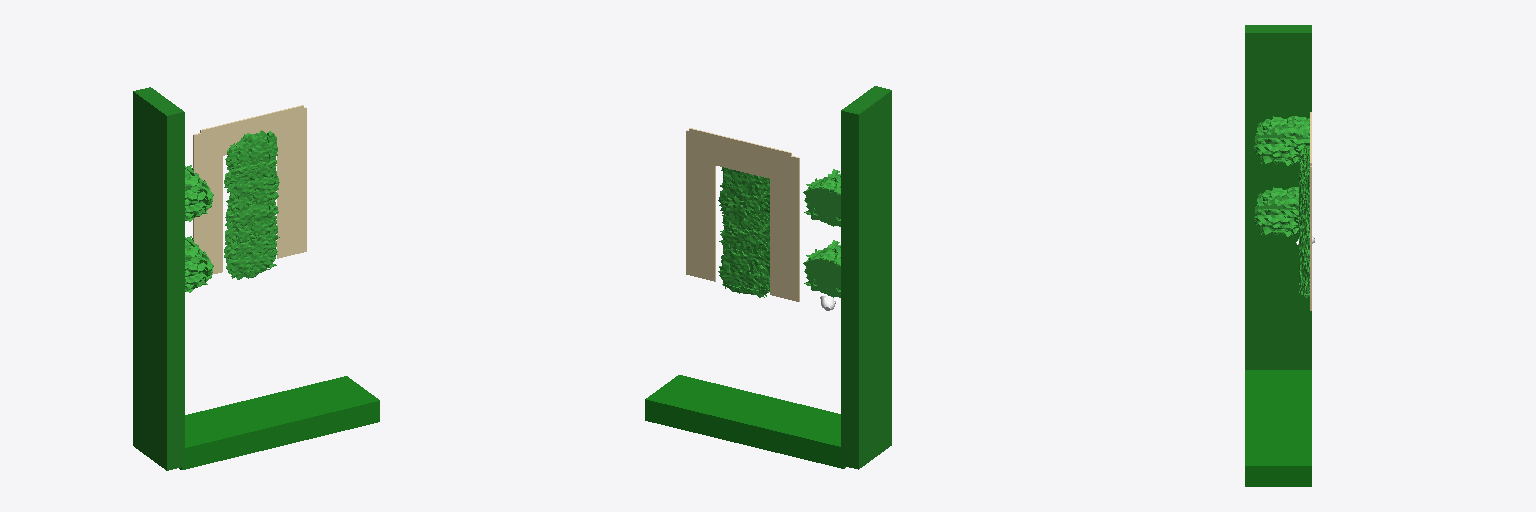
File: tinker.obj
3 renders of one model, left to right at view 1: azimuth 30°, elevation 25°; view 2: azimuth 150°, elevation 25°; view 3: azimuth 270°, elevation 25°, orthographic.
Parts seen in each view (by area): view 1: obj_0; view 2: obj_0; view 3: obj_0.
Boxes of the visible parts, <box> form: obj_0: <box>133,87,379,470</box>; obj_0: <box>645,86,891,469</box>; obj_0: <box>1245,25,1314,486</box>.
Size of the model in its own units: 73 by 117 by 21.